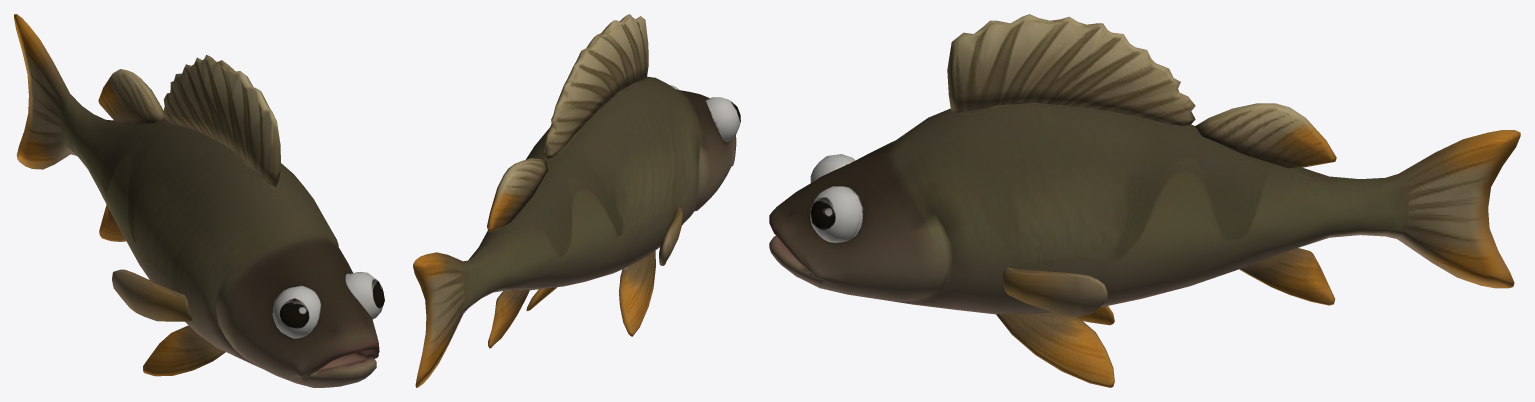
3 views of the same model, side by side, from view 1: azimuth 30°, elevation 25°; view 2: azimuth 150°, elevation 25°; view 3: azimuth 270°, elevation 25° (orthographic). The views are drawn at different scales.
Parts seen in each view (by area): view 1: yu16; view 2: yu16; view 3: yu16.
Boxes of the visible parts, x1,y1,x2,y2 form: yu16: (14, 14, 384, 387); yu16: (413, 14, 740, 387); yu16: (769, 14, 1520, 387).
Bounding box in the file's own units: 31.45 × 50.2 × 99.8.
Materials: 1 (1 with a texture image).
